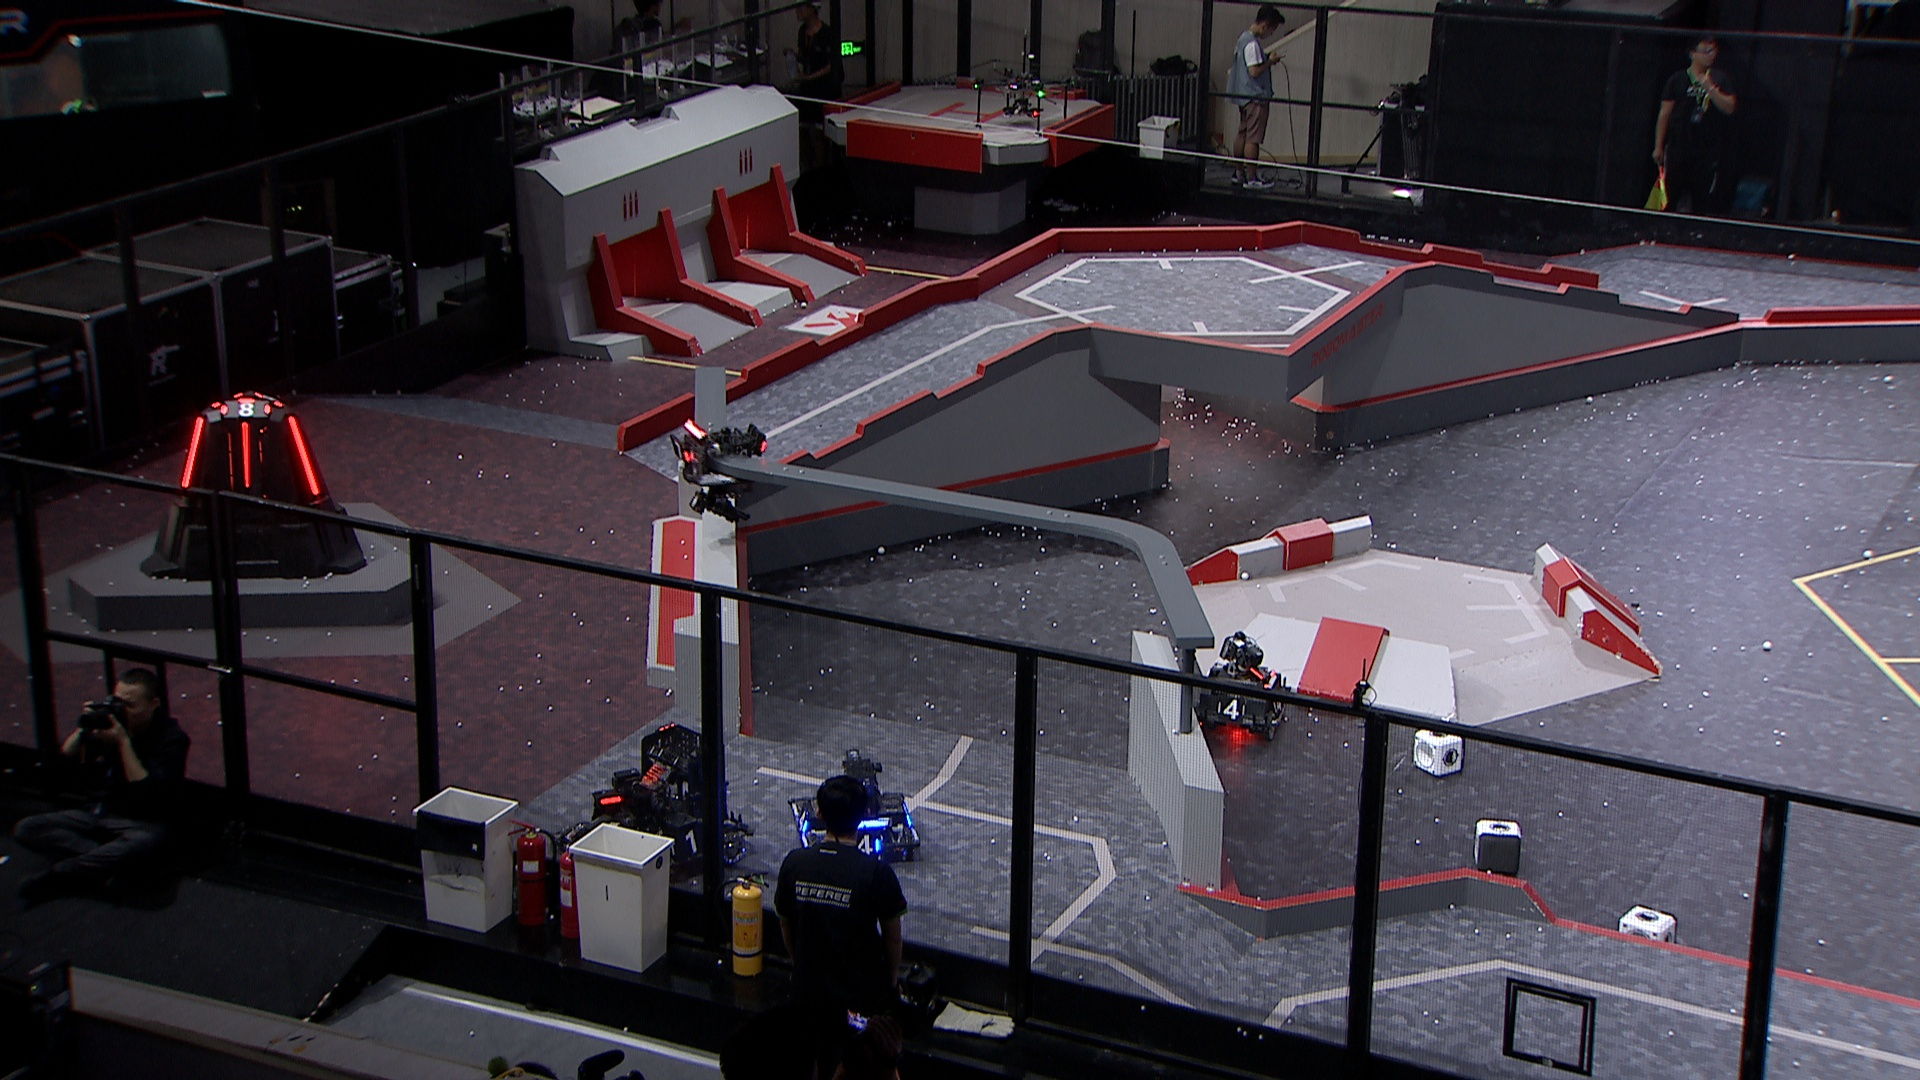armor: (285, 413, 320, 496), (179, 414, 204, 489), (237, 419, 256, 491), (219, 396, 273, 419), (666, 829, 703, 858), (1215, 698, 1247, 721), (855, 832, 882, 858), (670, 436, 694, 467), (794, 808, 812, 835)
base: (142, 392, 371, 583)
car: (556, 721, 757, 885), (789, 749, 924, 868), (1191, 632, 1291, 738)
watcher: (667, 418, 770, 527)
